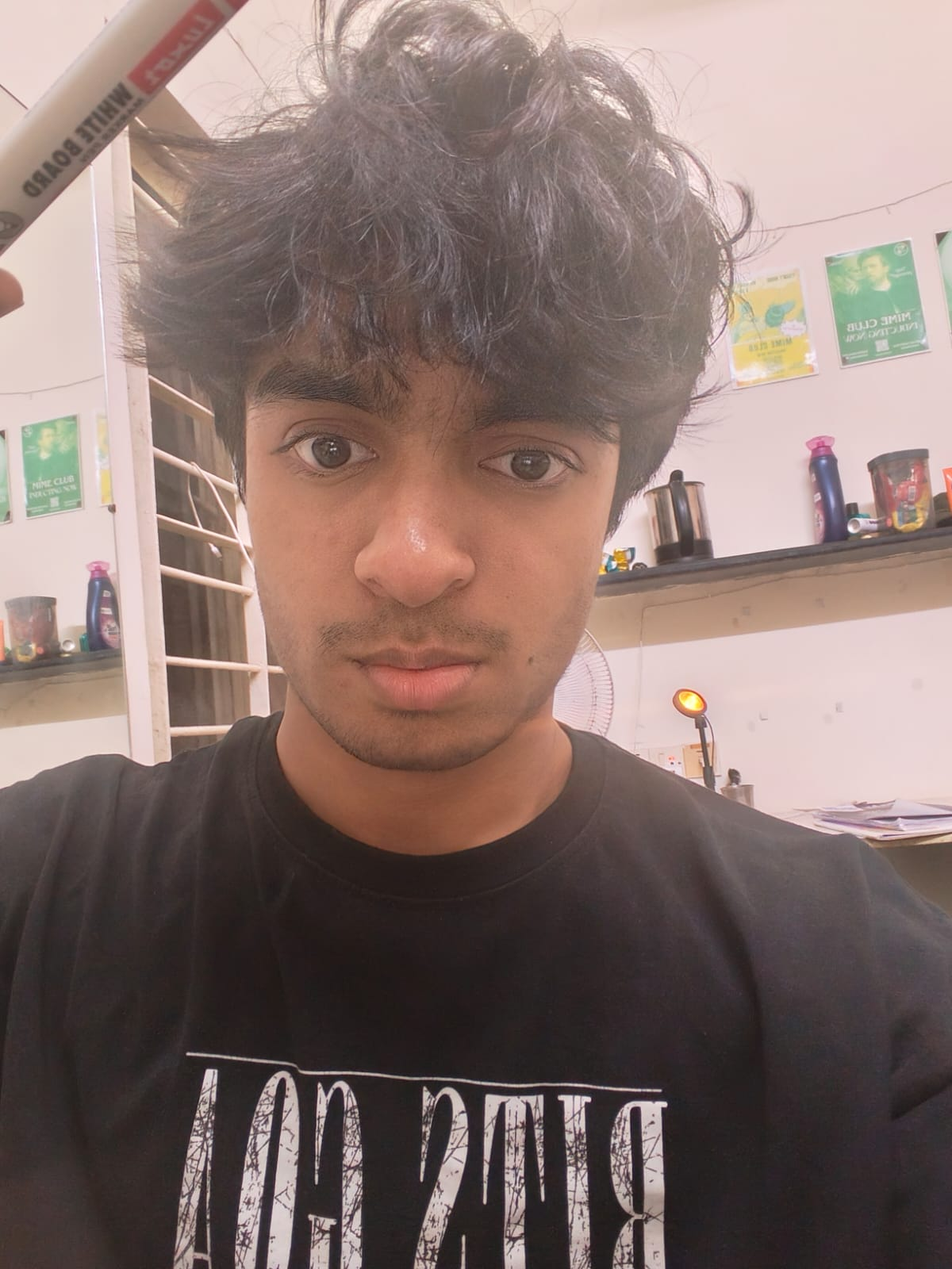case: (0, 7, 307, 278)
